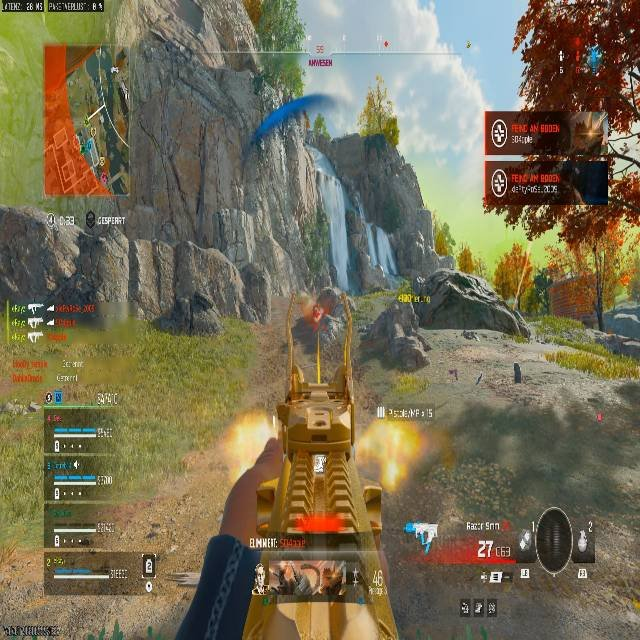head: (571, 109, 610, 152)
player: (502, 109, 621, 240)
